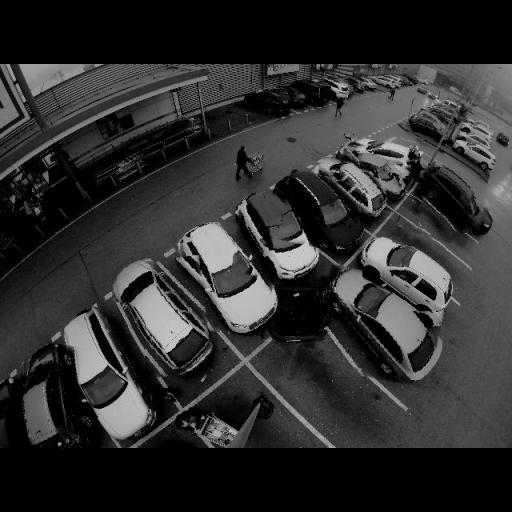busy: (316, 269, 444, 384), (52, 302, 144, 442), (172, 219, 278, 336), (112, 258, 210, 379), (234, 192, 320, 280), (13, 340, 80, 450), (280, 173, 362, 251), (362, 242, 446, 312), (420, 164, 487, 233), (313, 159, 388, 214), (339, 143, 407, 190), (356, 136, 420, 170), (240, 89, 294, 117), (454, 142, 493, 170), (410, 114, 448, 142), (318, 78, 352, 100), (279, 84, 310, 108), (458, 124, 494, 144), (344, 76, 368, 94)
free: (298, 361, 360, 412), (418, 212, 456, 241), (391, 227, 431, 250), (400, 132, 426, 150)
